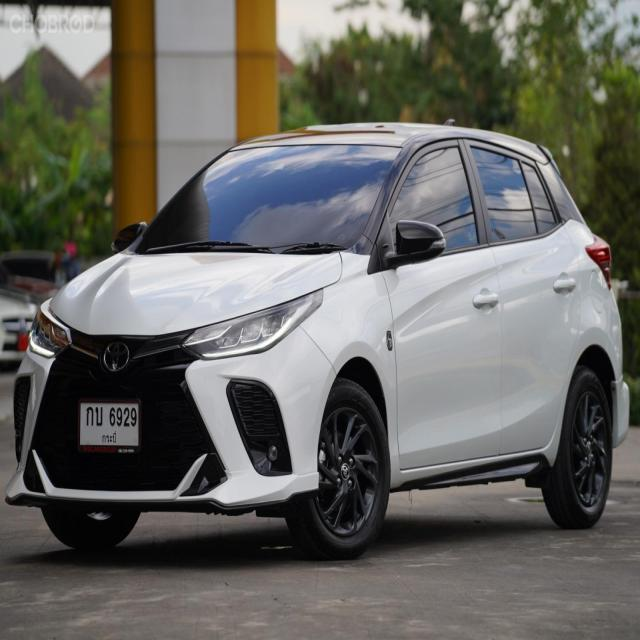license_plate: (72, 394, 145, 458)
